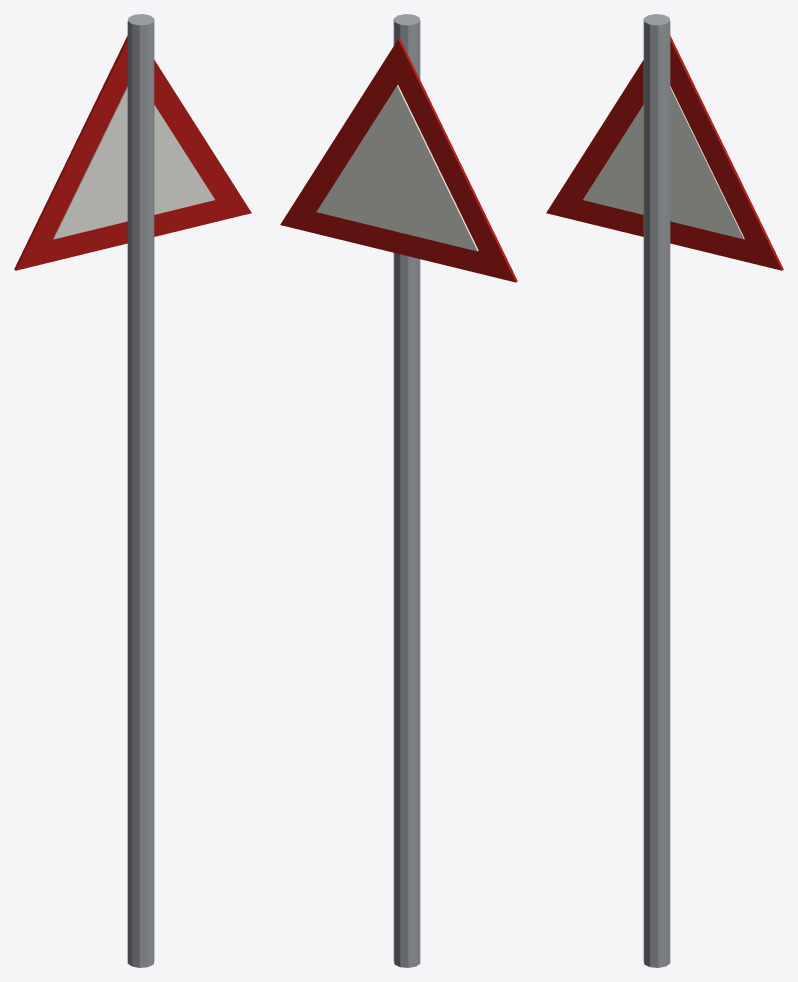
Rendered from street.traffic.sign_triangle.glb.
3 renders of one model, left to right at view 1: azimuth 30°, elevation 25°; view 2: azimuth 150°, elevation 25°; view 3: azimuth 330°, elevation 25°, orthographic.
Visible parts, largest first — view 1: main__steel_galvanised, main__hazard_red, main__paint_white; view 2: main__steel_galvanised, main__hazard_red, main__paint_white; view 3: main__steel_galvanised, main__hazard_red, main__paint_white.
Boxes of the visible parts, x1,y1,x2,y2 form: main__steel_galvanised: (127,14,154,967); main__hazard_red: (14,36,251,270); main__paint_white: (53,86,214,239); main__steel_galvanised: (393,14,420,967); main__hazard_red: (280,38,517,282); main__paint_white: (316,85,478,251); main__steel_galvanised: (643,14,670,967); main__hazard_red: (546,36,783,270); main__paint_white: (583,86,744,239).
Bounding box in the file's own units: 0.76 × 2.9 × 0.094.
